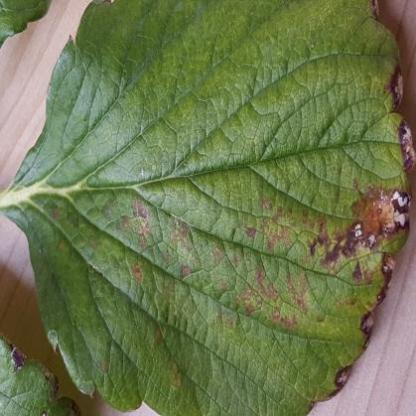Strawberry_Angular_LeafSpot: (44, 61, 415, 400)
